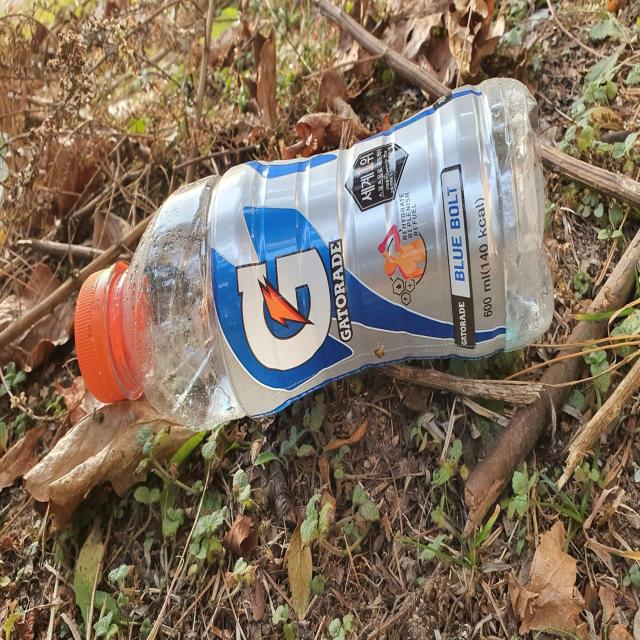plastic: (74, 78, 555, 430)
